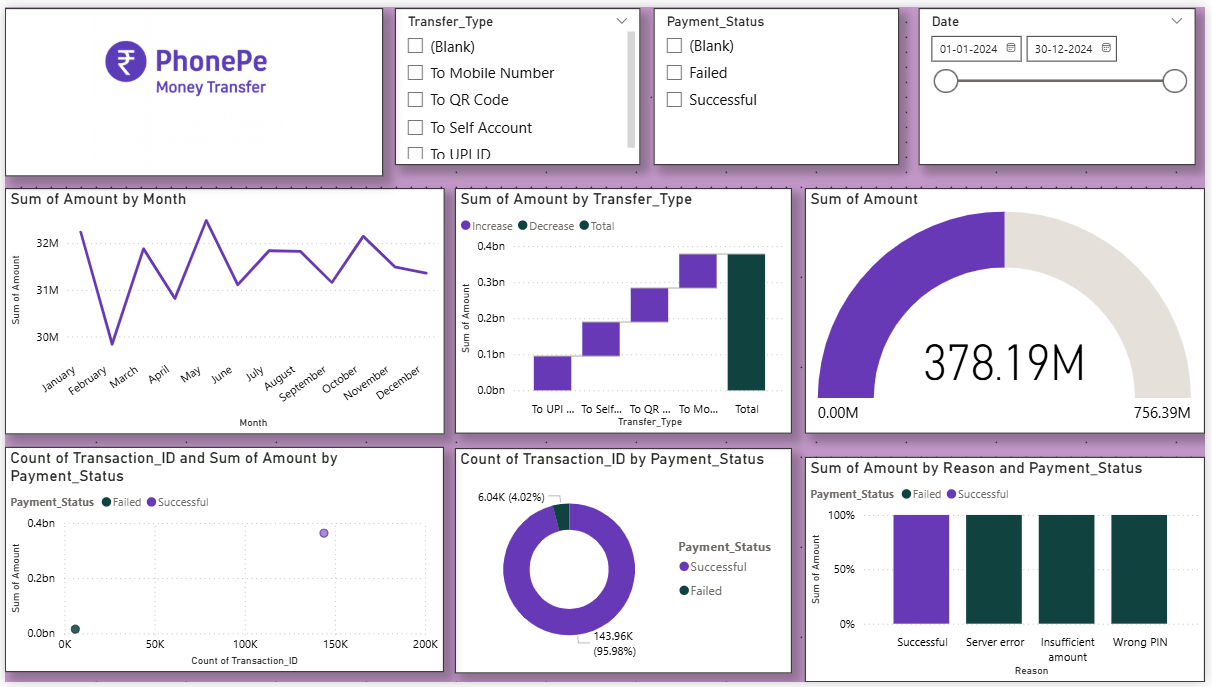

The page's visual inventory and layout, read from the dashboard file:
{"tool":"powerbi","page":{"name":"Money Transfer","canvas":[1280,720],"ordinal":3},"visuals":[{"type":"lineChart","fields":{"Category":["Money_Transfer.Date.Variation.Date Hierarchy.Month"],"Y":["Sum(Money_Transfer.Amount)"]},"box":[0,193.2,468.9,262.2],"z":0},{"type":"donutChart","fields":{"Category":["Money_Transfer.Payment_Status"],"Y":["CountNonNull(Money_Transfer.Transaction_ID)"]},"box":[480,471.3,359.3,240],"z":1000},{"type":"waterfallChart","fields":{"Category":["Money_Transfer.Transfer_Type"],"Y":["Sum(Money_Transfer.Amount)"]},"box":[480,193.5,359.3,261.8],"z":2000},{"type":"scatterChart","fields":{"X":["Money_Transfer.Transaction_ID"],"Y":["Sum(Money_Transfer.Amount)"],"Series":["Money_Transfer.Payment_Status"]},"box":[0,469.8,468.4,240],"z":3000},{"type":"hundredPercentStackedColumnChart","fields":{"Category":["Money_Transfer.Reason"],"Y":["Sum(Money_Transfer.Amount)"],"Series":["Money_Transfer.Payment_Status"]},"box":[853.8,480,426.2,240],"z":4000},{"type":"gauge","fields":{"Y":["Sum(Money_Transfer.Amount)"]},"box":[853.8,193.5,426.2,261.8],"z":5000},{"type":"slicer","fields":{"Values":["Money_Transfer.Transfer_Type"]},"box":[416,1.5,261.8,167.3],"z":6000},{"type":"slicer","fields":{"Values":["Money_Transfer.Payment_Status"]},"box":[692.4,1.5,261.8,167.3],"z":7000},{"type":"slicer","fields":{"Values":["Money_Transfer.Date"]},"box":[974.5,1.5,295.3,167.3],"z":8000},{"type":"image","box":[0,1.5,402.9,178.9],"z":9000}]}

Visuals, with their boxes in screenshot pixels (x1, y1, x2, y2), scaled from the page's 1280x720 canvas onto the 1212x687 screenshot:
lineChart - Money_Transfer.Date.Variation.Date Hierarchy.Month x Sum(Money_Transfer.Amount): 0, 184, 444, 435
donutChart - Money_Transfer.Payment_Status x CountNonNull(Money_Transfer.Transaction_ID): 454, 450, 795, 679
waterfallChart - Money_Transfer.Transfer_Type x Sum(Money_Transfer.Amount): 454, 185, 795, 434
scatterChart - Money_Transfer.Transaction_ID x Sum(Money_Transfer.Amount): 0, 448, 444, 677
hundredPercentStackedColumnChart - Money_Transfer.Reason x Sum(Money_Transfer.Amount): 808, 458, 1211, 686
gauge - Sum(Money_Transfer.Amount): 808, 185, 1211, 434
slicer - Money_Transfer.Transfer_Type: 394, 1, 642, 161
slicer - Money_Transfer.Payment_Status: 656, 1, 904, 161
slicer - Money_Transfer.Date: 923, 1, 1202, 161
image: 0, 1, 381, 172
